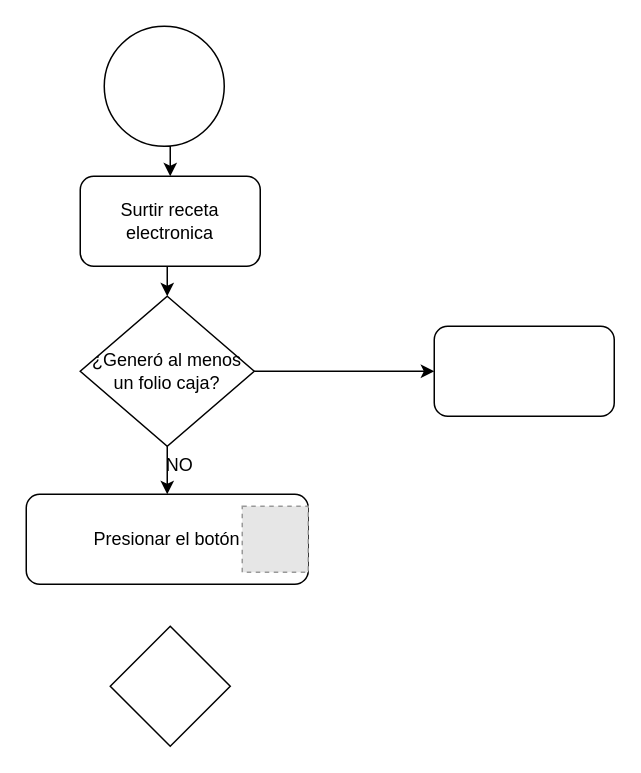
This 641x773 diagram has some shape labels left out. Grey dashed boxes stand in for pictures. Here are the shapes that lost their labels. From the top down, the centre of each, then its label:
At (x=163, y=85): "Inicio".
At (x=523, y=370): "Se dispensa normalmente".
